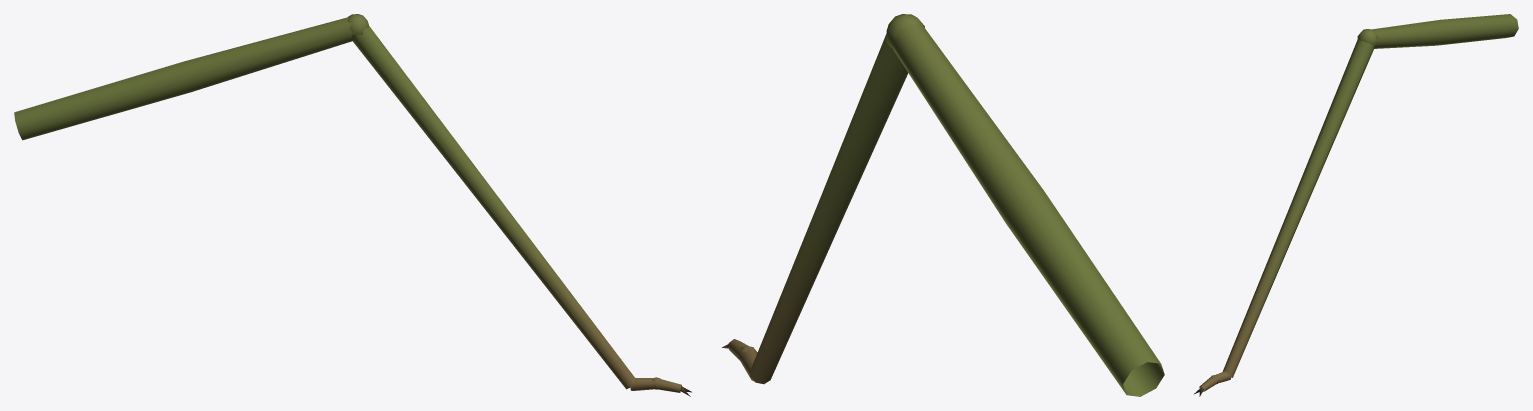
The model's file is Nanafushi_Leg3.fbx.
3 views of the same model, side by side, from view 1: azimuth 30°, elevation 25°; view 2: azimuth 150°, elevation 25°; view 3: azimuth 270°, elevation 25° (orthographic). The views are drawn at different scales.
Parts seen in each view (by area): view 1: Nanafushi_Leg3; view 2: Nanafushi_Leg3; view 3: Nanafushi_Leg3.
Part boxes in pixels (box(x1,y1,x2,y2)): Nanafushi_Leg3: box(14, 14, 691, 396); Nanafushi_Leg3: box(722, 14, 1164, 396); Nanafushi_Leg3: box(1193, 14, 1518, 396).
Size of the model in its own units: 0.7833 by 0.5494 by 0.5795.
